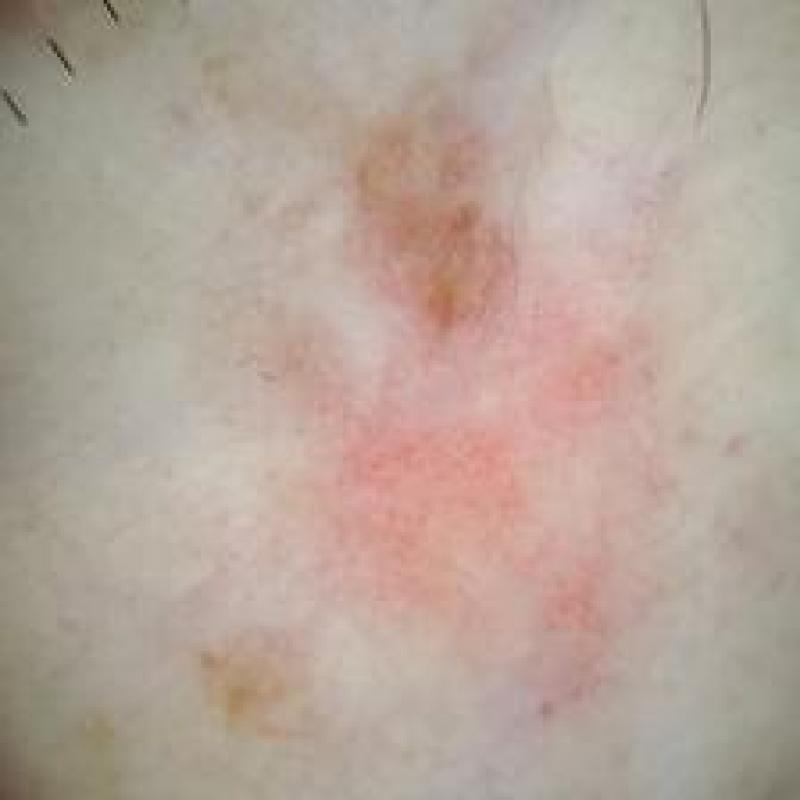malignant: (205, 86, 704, 722)
